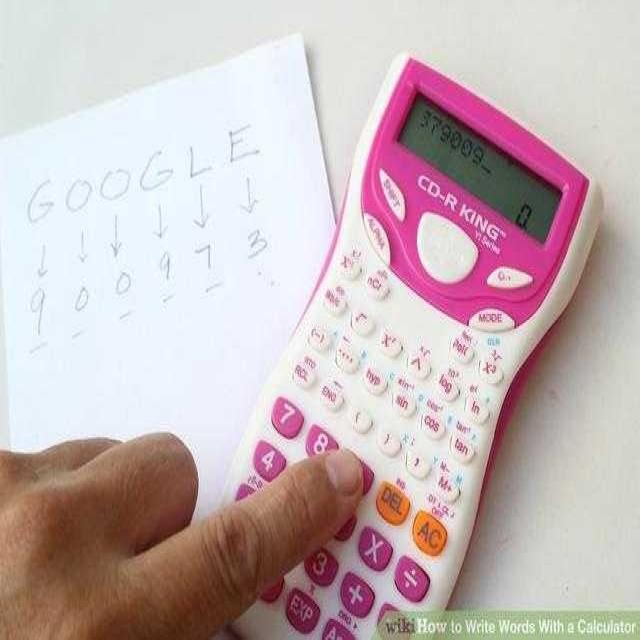Calculator: (214, 50, 603, 637)
